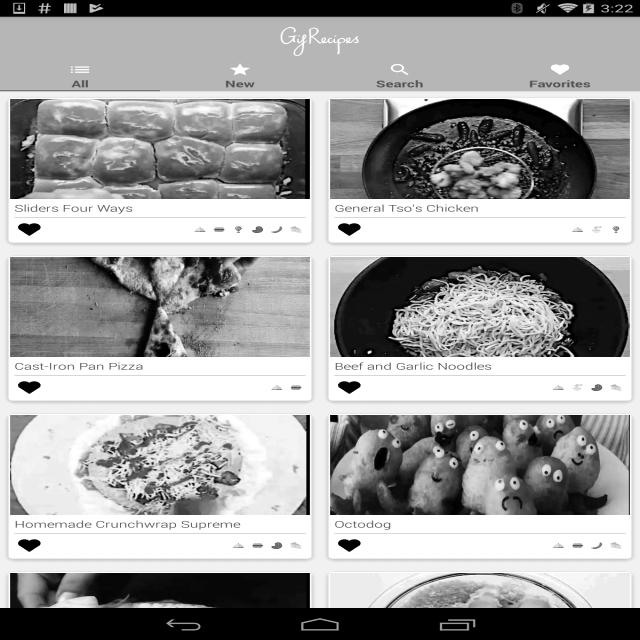ImageView: (10, 99, 310, 199), (330, 99, 630, 199), (10, 257, 310, 357), (330, 257, 630, 357), (10, 415, 310, 515), (330, 415, 630, 515), (10, 573, 310, 640), (330, 573, 630, 640), (493, 62, 627, 77), (182, 62, 298, 77), (342, 62, 458, 77), (10, 218, 49, 242), (330, 218, 369, 242), (10, 376, 49, 400), (330, 376, 369, 400), (10, 534, 49, 558), (330, 534, 369, 558), (63, 62, 97, 77), (190, 223, 210, 236), (286, 223, 306, 236), (606, 223, 626, 236), (229, 223, 248, 236), (248, 223, 267, 236), (568, 223, 587, 236), (286, 382, 306, 394), (606, 382, 626, 394), (286, 540, 306, 552), (606, 540, 626, 552), (210, 223, 228, 236), (268, 223, 286, 236), (588, 223, 606, 236), (549, 382, 568, 394), (568, 382, 587, 394), (229, 540, 248, 552), (248, 540, 267, 552), (549, 540, 568, 552), (568, 540, 587, 552), (268, 382, 286, 394), (588, 382, 606, 394), (268, 540, 286, 552), (588, 540, 606, 552)
TextView: (10, 199, 310, 217), (330, 199, 630, 217), (10, 357, 310, 375), (330, 357, 630, 375), (10, 515, 310, 533), (330, 515, 630, 533), (280, 20, 360, 56), (529, 77, 591, 90), (376, 77, 423, 90), (225, 77, 255, 90), (72, 77, 88, 90)
